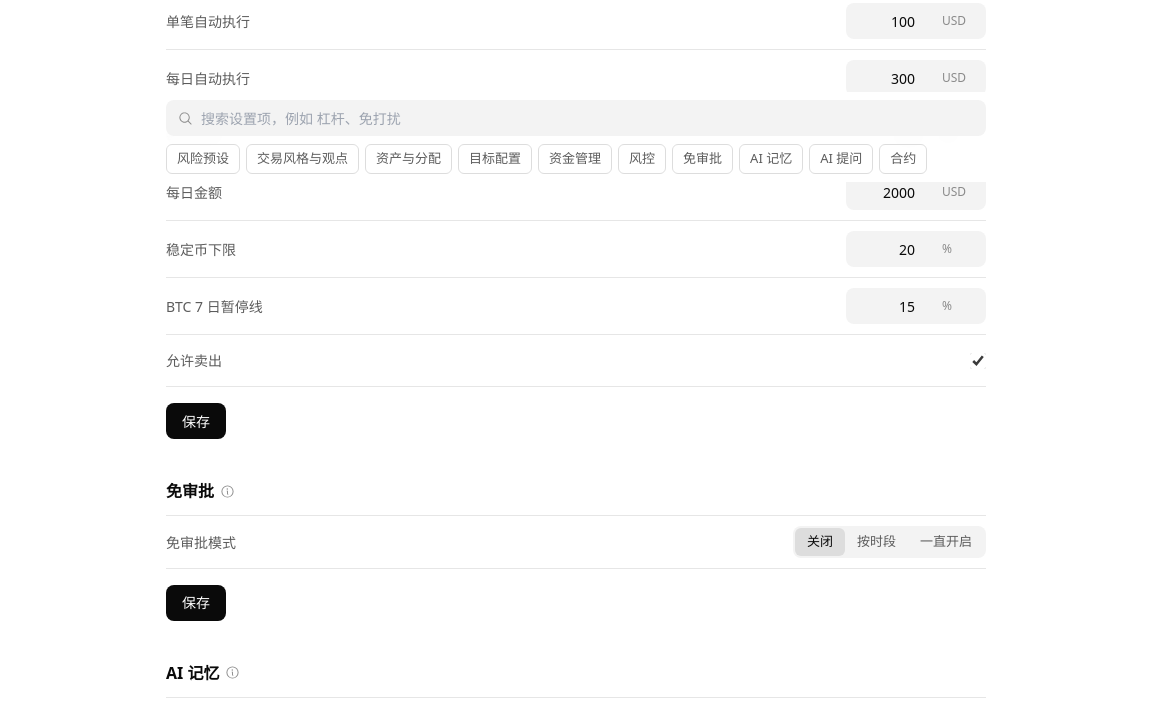
Test: Config page (配置) › asks for a second confirmation before a dangerous change and resends with the token
The width and height of the screenshot is (1152, 706).
(page scrolled)
Click the checkbox: [978, 361] box [970,353,986,369]
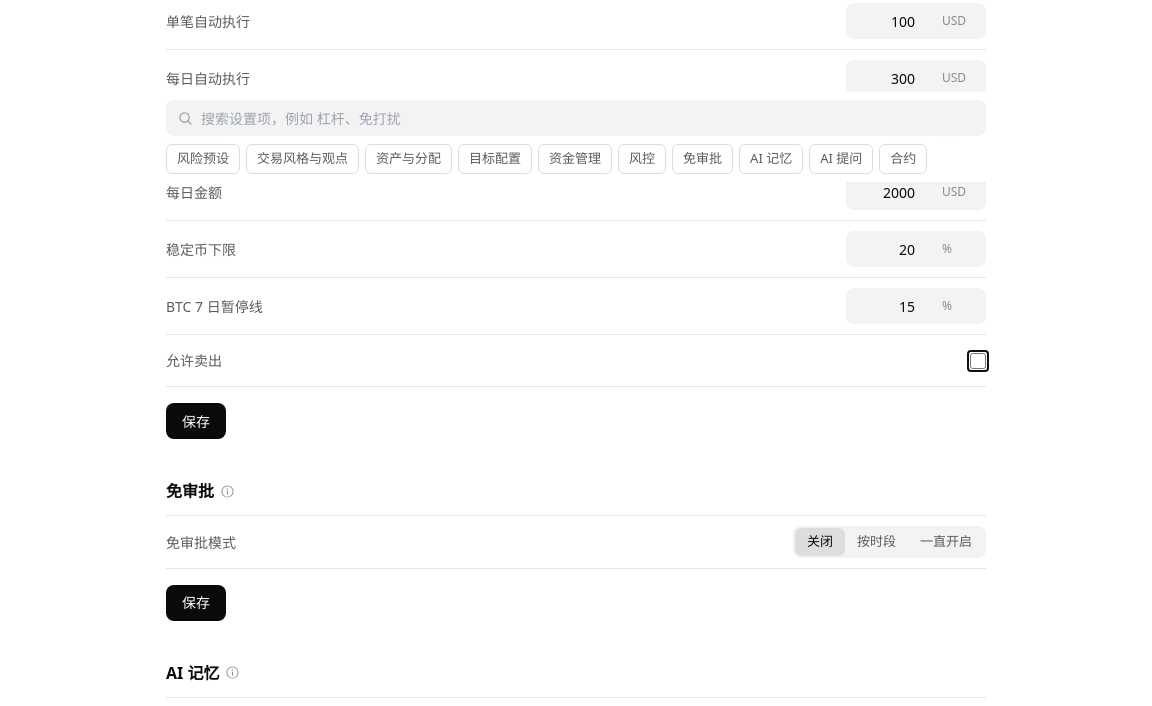
Click the button "保存" below "允许卖出": [196, 421] box [166,403,226,439]
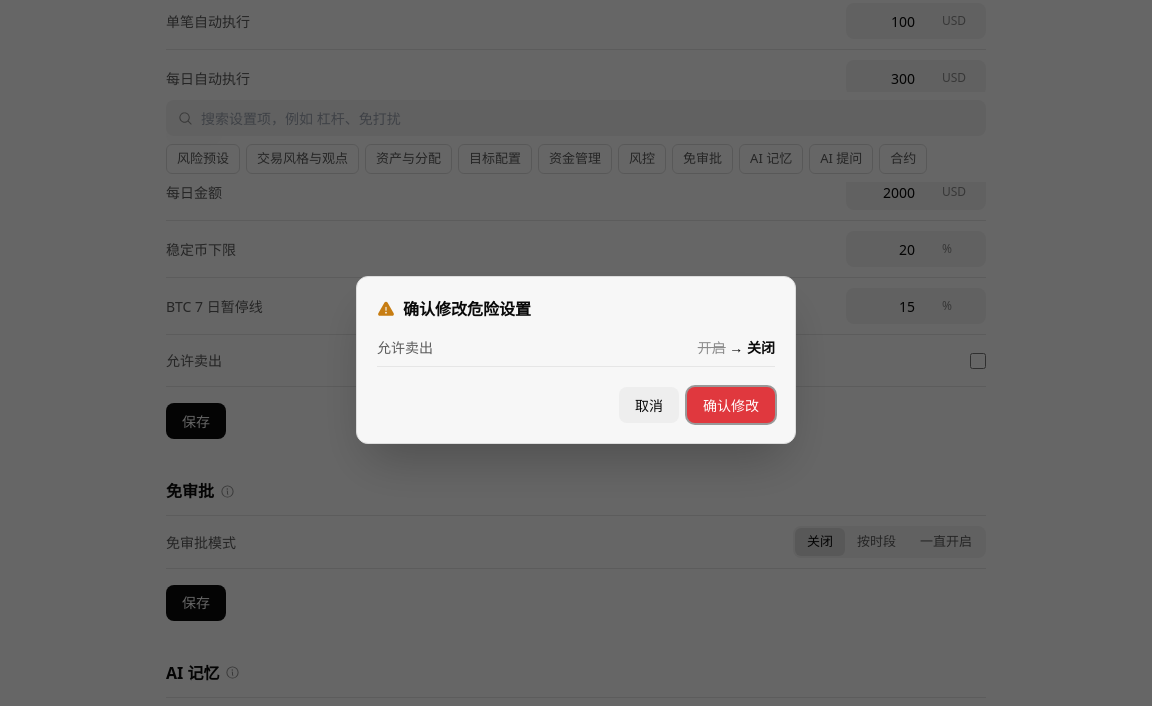
Check: the text "允许卖出" is shown, box [377,337,433,358]
Check: the text "关闭" is shown, box [747,338,775,357]
Click the button "确认修改": [731, 405] box [687,387,775,423]
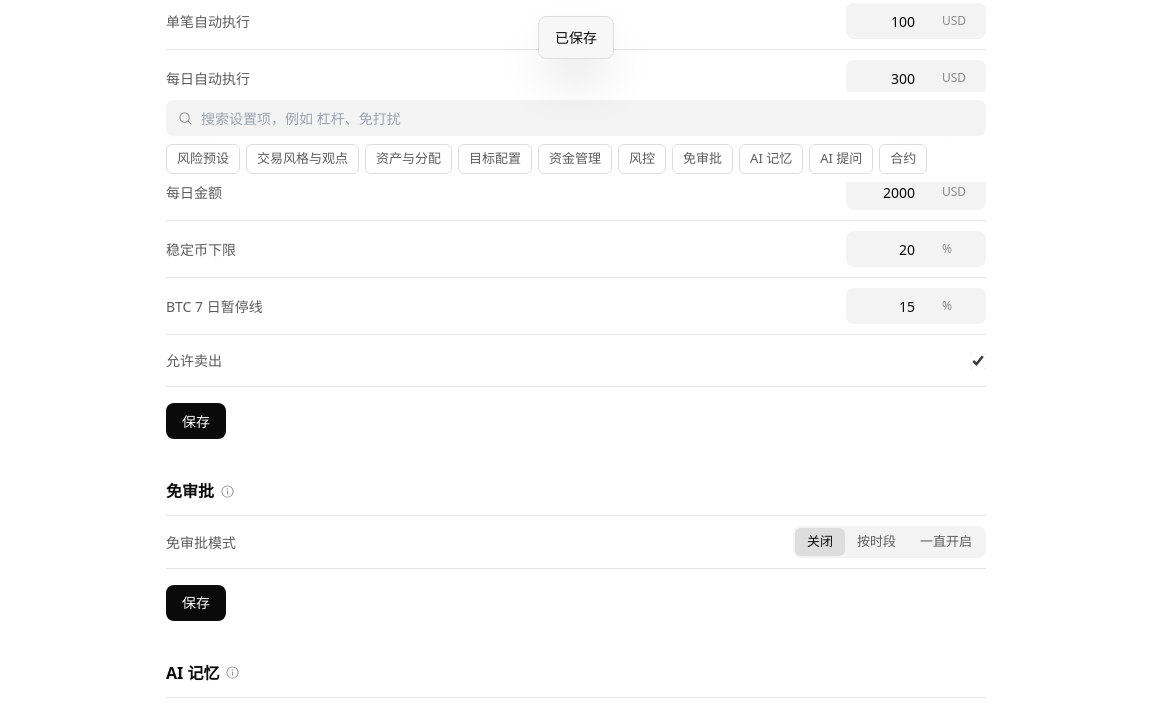
Check: the message reads "已保存", box [555,28,597,47]
Check: the dialog is gone
